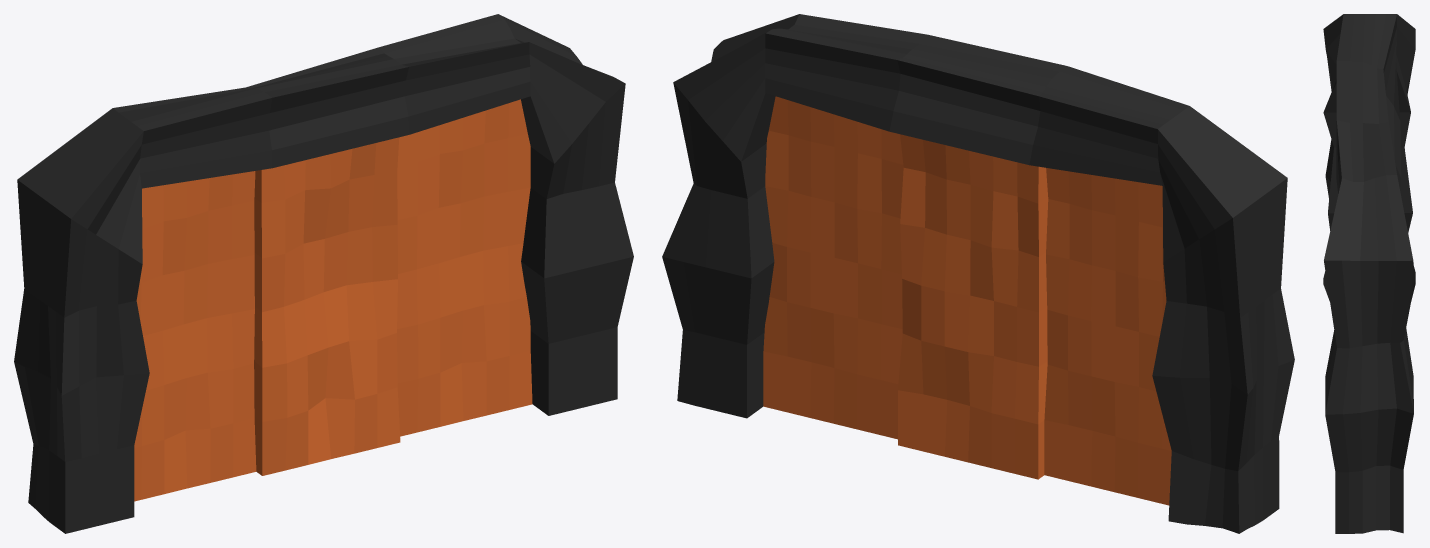
File: rm_prop_gate.fbx
3 views of the same model, side by side, from view 1: azimuth 30°, elevation 25°; view 2: azimuth 150°, elevation 25°; view 3: azimuth 270°, elevation 25° (orthographic). The views are drawn at different scales.
Parts seen in each view (by area): view 1: RM_Prop_Gate, GatePlank.001, GatePlank.002, GatePlank; view 2: RM_Prop_Gate, GatePlank.001, GatePlank.002, GatePlank; view 3: RM_Prop_Gate.
Part boxes in pixels (box(x1,y1,x2,y2)): RM_Prop_Gate: box(14, 14, 633, 533); GatePlank.001: box(254, 137, 400, 475); GatePlank.002: box(397, 99, 532, 436); GatePlank: box(134, 171, 256, 501); RM_Prop_Gate: box(662, 14, 1294, 533); GatePlank.001: box(898, 134, 1048, 479); GatePlank.002: box(763, 96, 903, 439); GatePlank: box(1044, 168, 1171, 505); RM_Prop_Gate: box(1323, 14, 1415, 533).
Size of the model in its own units: 830 by 533 by 135.
